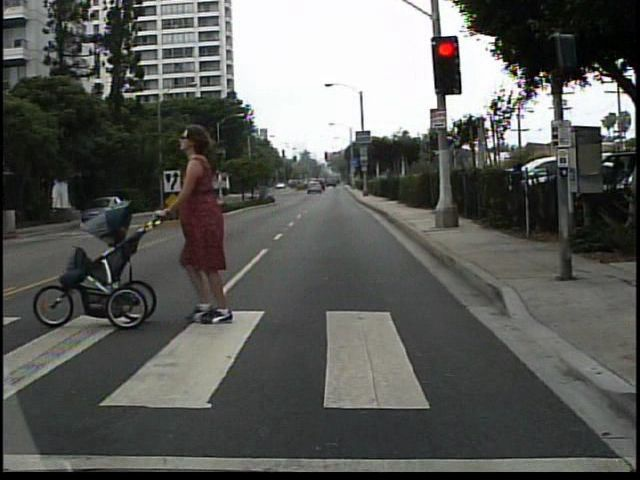person: (158, 123, 256, 325)
